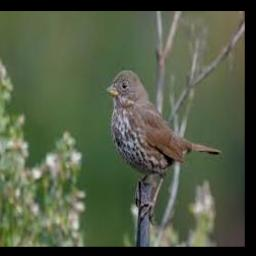Sparrow: (107, 69, 221, 225)
